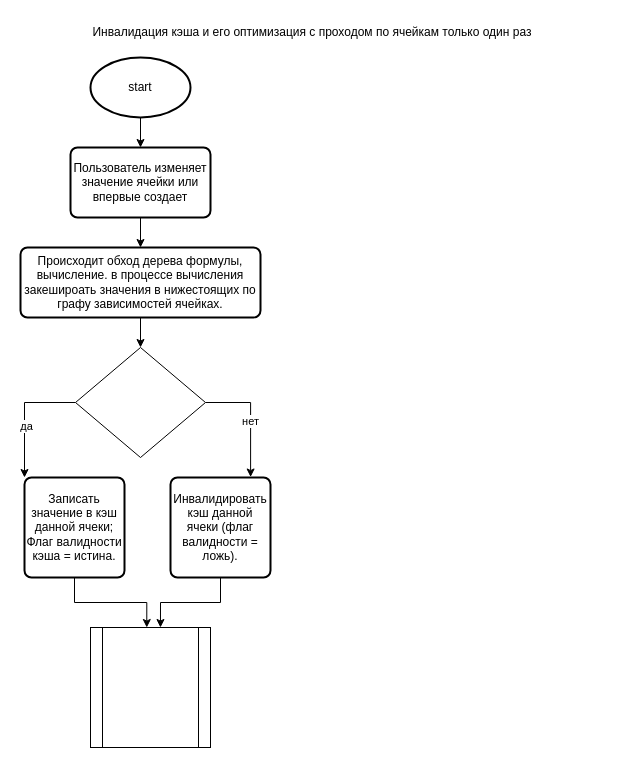
This 618x765 diagram has some shape labels left out. Each missing label, with the box of its shape:
Вычисление формулы вернуло значение типа double?: (74, 346, 206, 458)
Запустить инвалидацию кеша всех вышестоящих ячеек по графу зависимостей: (90, 626, 210, 748)
